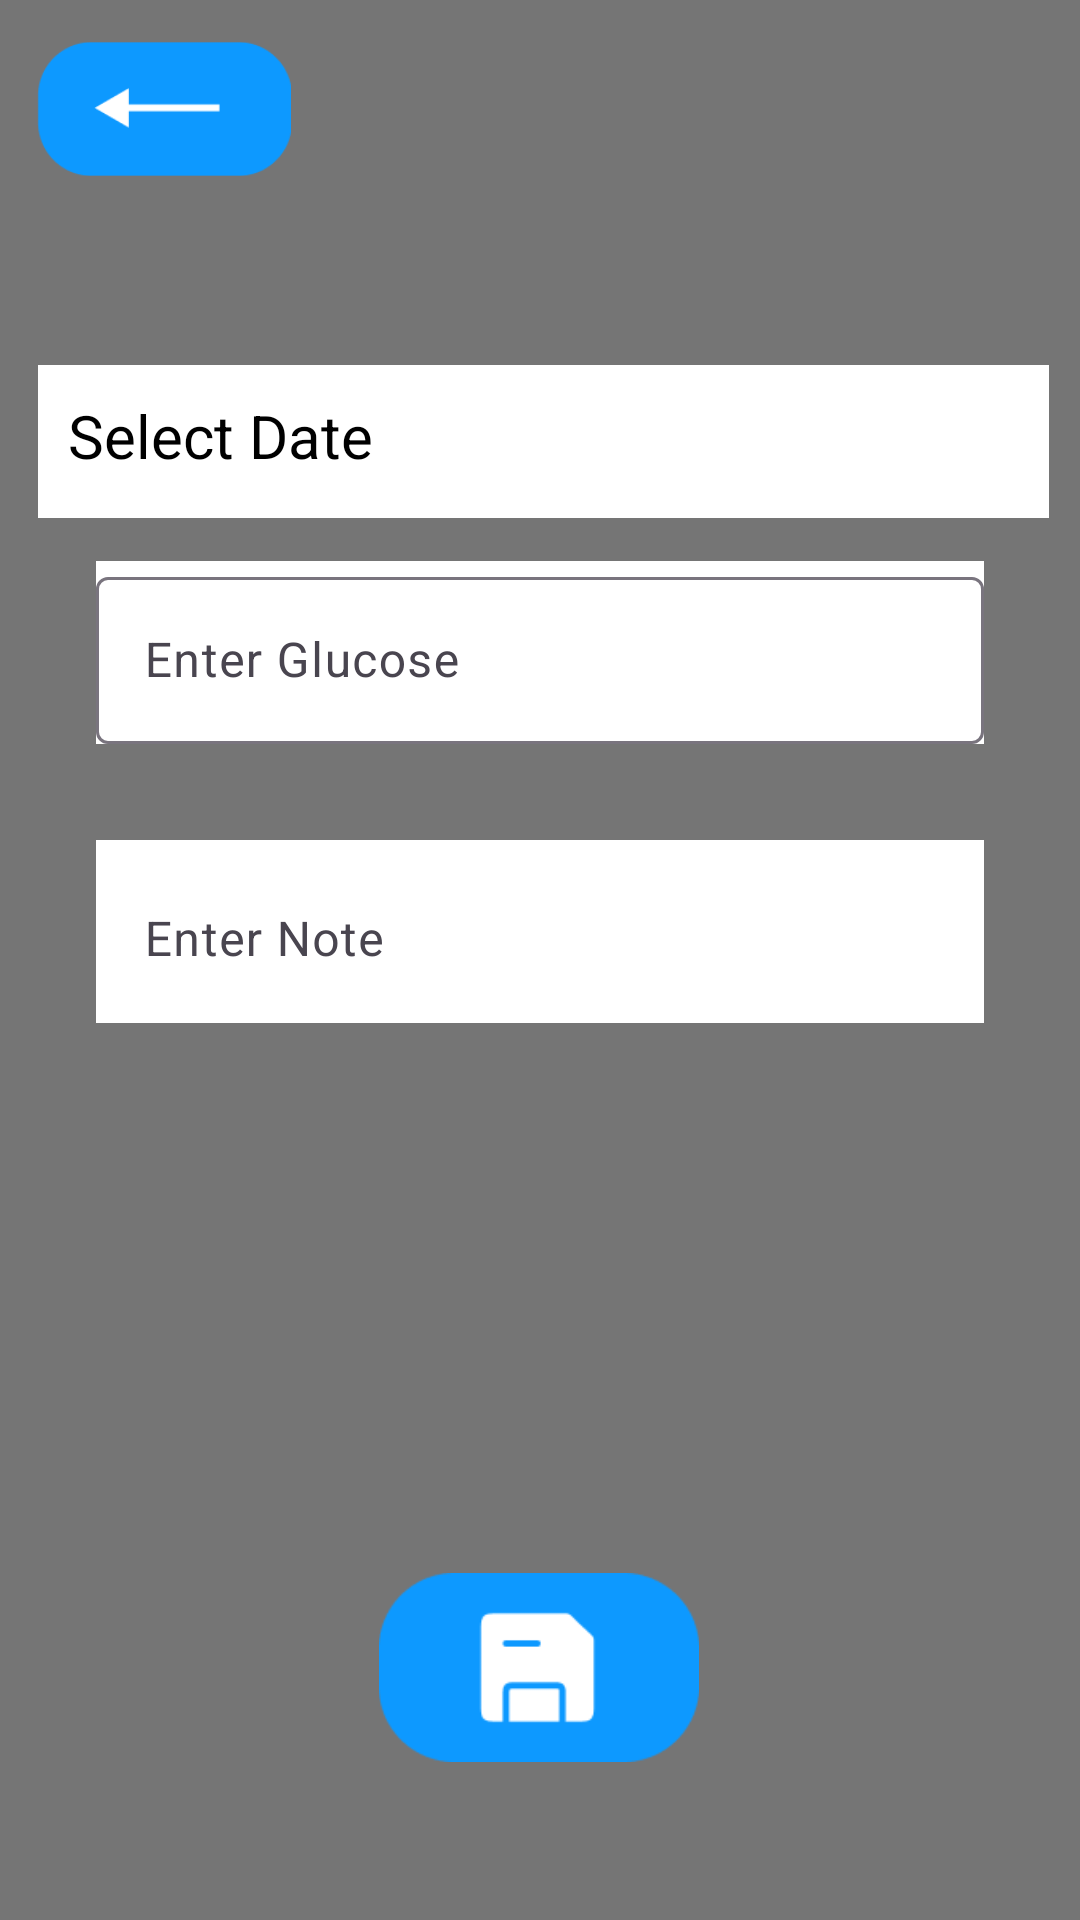

Point at icon controls on the screen. Image size 1080px x 1920px, points as point (x, y).
Back Button: point (164, 109)
Save patient data: point (539, 1667)
